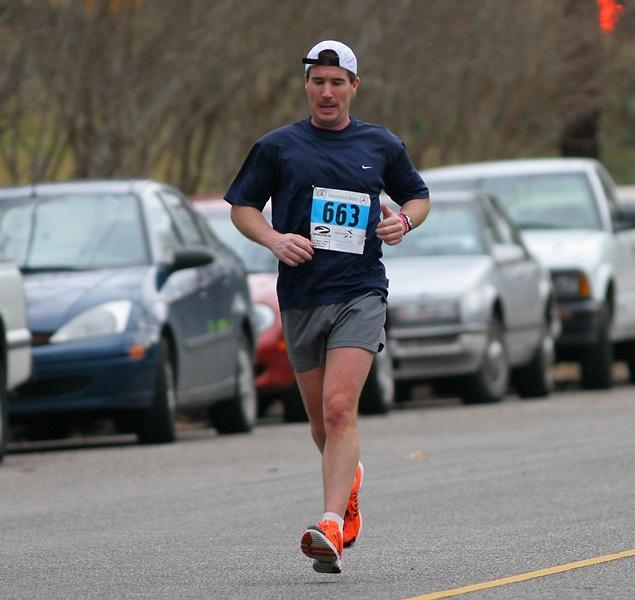person: (224, 42, 433, 580)
